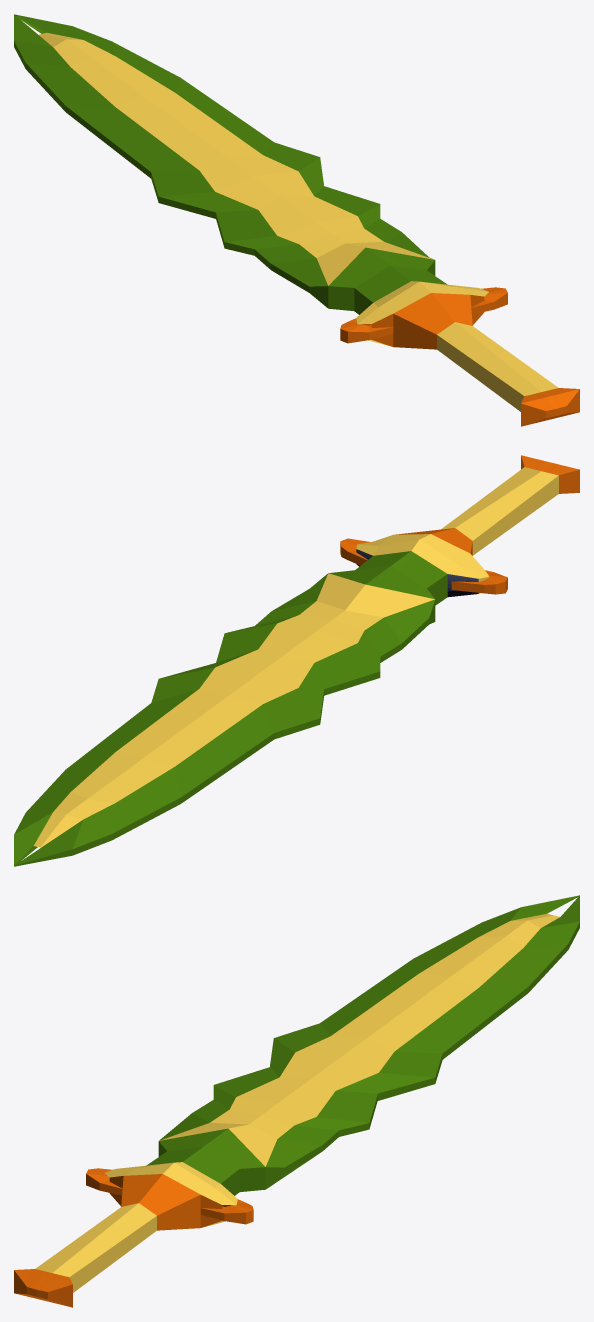
The model's file is 12-Sword.fbx.
3 renders of one model, top to bottom at view 1: azimuth 30°, elevation 25°; view 2: azimuth 150°, elevation 25°; view 3: azimuth 330°, elevation 25°, orthographic.
Visible parts, largest first — view 1: Sword12; view 2: Sword12; view 3: Sword12.
Boxes of the visible parts, left/top/right/bottom form: Sword12: left=14, top=14, right=579, bottom=426; Sword12: left=14, top=455, right=579, bottom=866; Sword12: left=14, top=895, right=579, bottom=1307.
Bounding box in the file's own units: 99.94 × 35.12 × 568.
